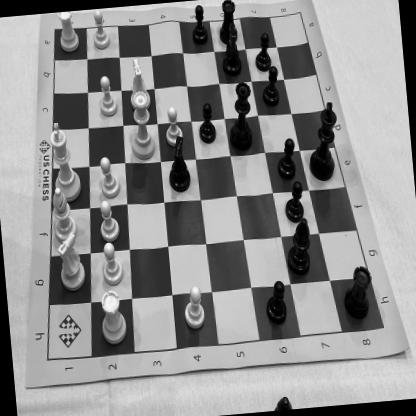bishop: (281, 218, 316, 277), (47, 184, 78, 244)
king: (302, 96, 343, 184), (46, 120, 84, 203)
knight: (50, 231, 88, 294), (165, 134, 194, 196), (218, 21, 245, 80), (126, 54, 154, 110)
pawn: (260, 276, 288, 328), (181, 282, 208, 334), (98, 240, 126, 288), (95, 154, 124, 200), (274, 135, 301, 182), (282, 178, 308, 226), (95, 198, 122, 243), (258, 63, 283, 108), (88, 7, 113, 52), (196, 100, 220, 146), (161, 102, 185, 148), (187, 1, 210, 48), (96, 74, 120, 119), (251, 28, 274, 74)
queen: (125, 89, 159, 163), (225, 78, 257, 156)
rook: (338, 263, 376, 322), (96, 287, 129, 345), (53, 10, 82, 56), (216, 0, 242, 48)
